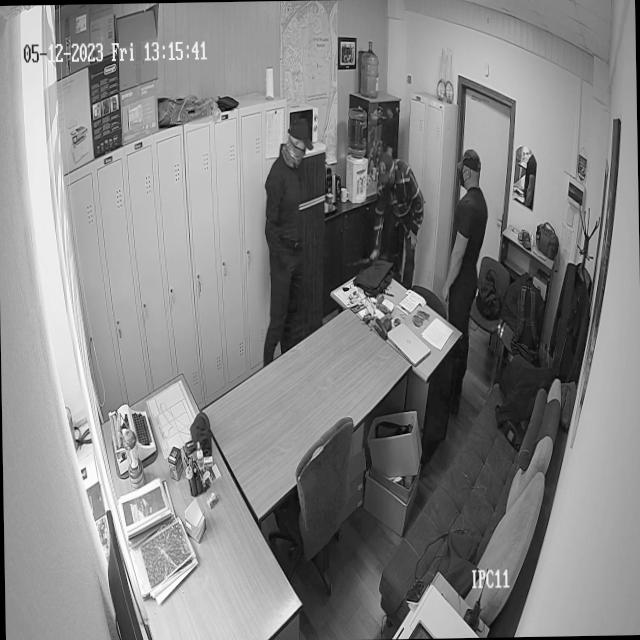gun: (348, 248, 392, 270)
person: (438, 140, 491, 376), (264, 121, 314, 358)
person with a gun: (346, 152, 424, 286)
